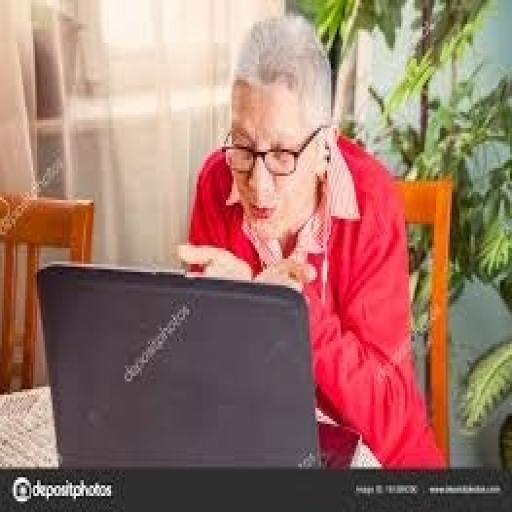using_laptop: (33, 256, 323, 469)
